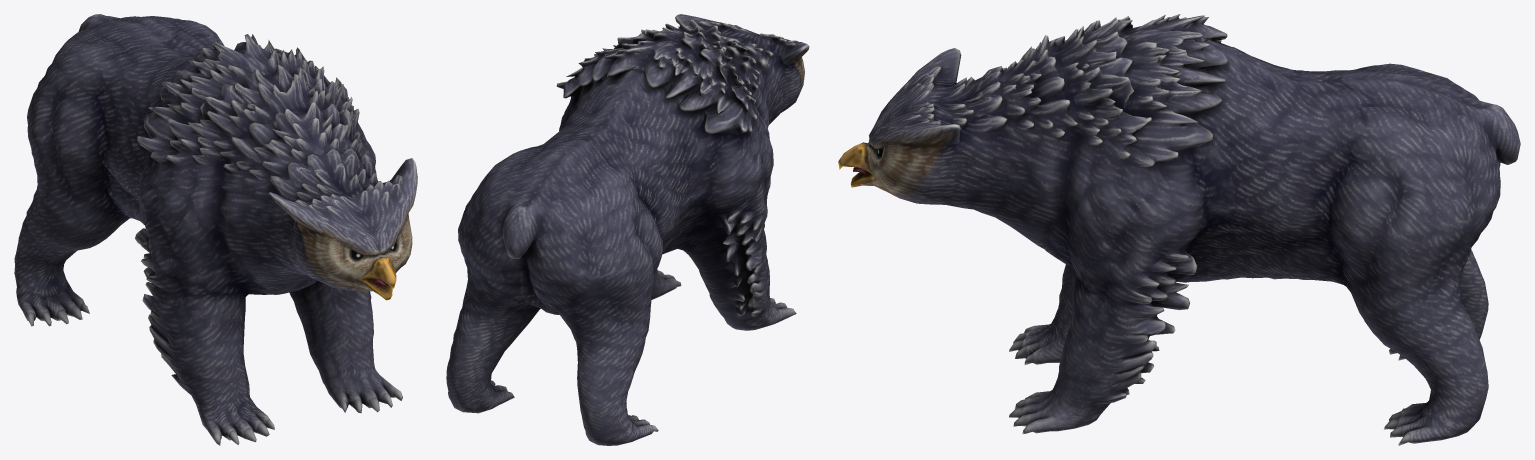
File: MZ4250 - Owlbear.glb
3 renders of one model, left to right at view 1: azimuth 30°, elevation 25°; view 2: azimuth 150°, elevation 25°; view 3: azimuth 270°, elevation 25°, orthographic. The views are drawn at different scales.
Parts seen in each view (by area): view 1: owlbear_low.001; view 2: owlbear_low.001; view 3: owlbear_low.001.
Part boxes in pixels (bbox=[...]): owlbear_low.001: bbox=[14, 14, 417, 445]; owlbear_low.001: bbox=[446, 14, 809, 445]; owlbear_low.001: bbox=[838, 14, 1520, 445].
Bounding box in the file's own units: 4.08 × 5.91 × 9.95.
Materials: 1 (1 with a texture image).
